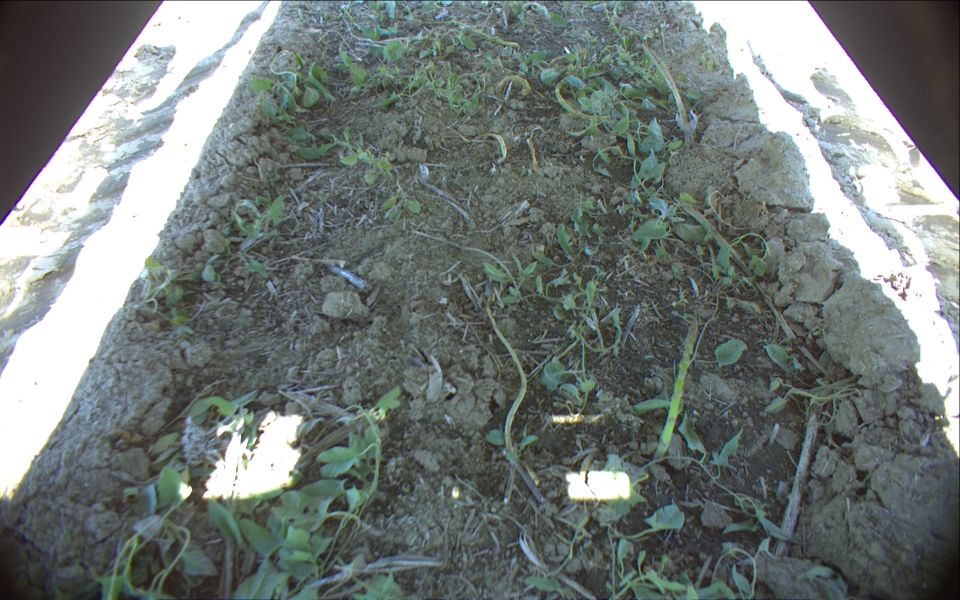aspa: (648, 317, 702, 468)
